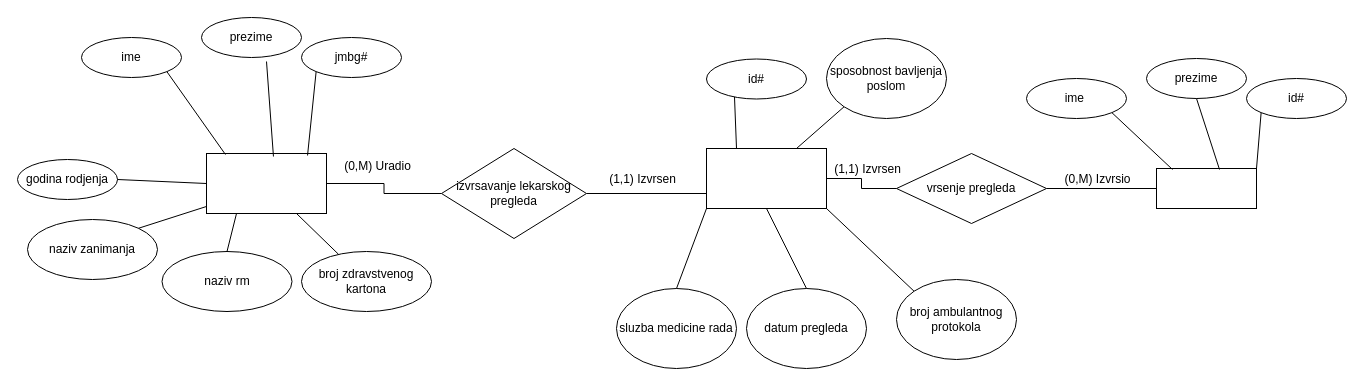
This 1364x386 diagram has some shape labels left out. Each missing label, with the box of its shape:
Prethodni lekarski izvestaj: (706, 148, 826, 208)
Specijalista medicine rada: (1156, 168, 1256, 208)
Zaposleni: (206, 152, 326, 214)
